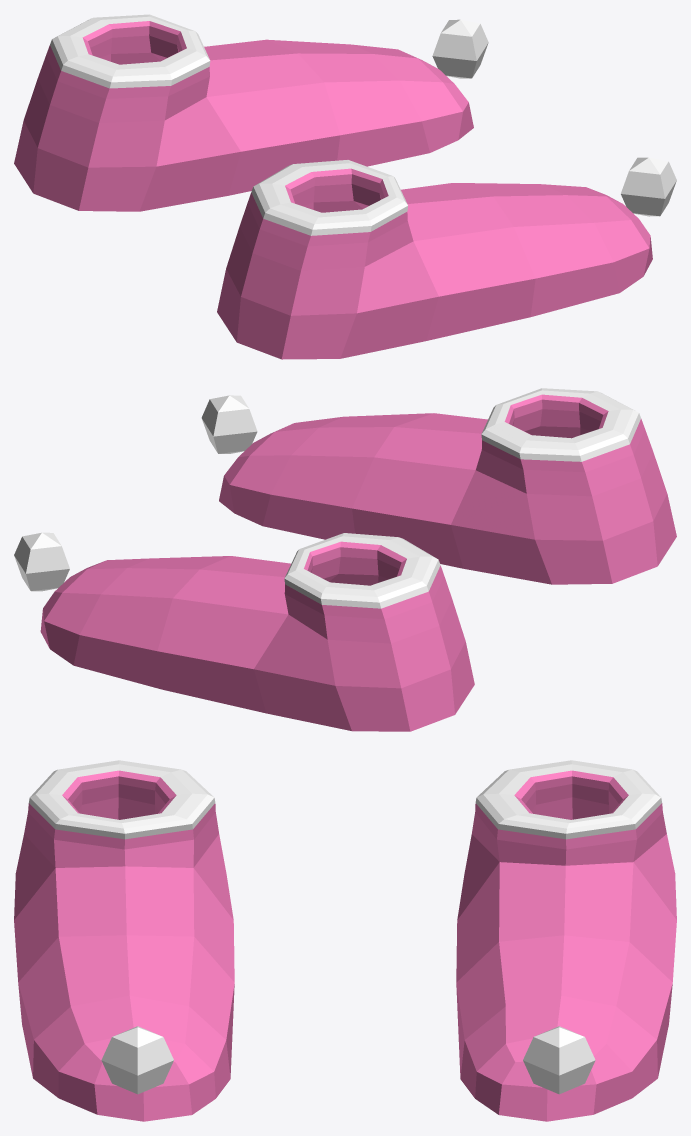
Rendered from slippers.glb.
3 renders of one model, top to bottom at view 1: azimuth 30°, elevation 25°; view 2: azimuth 150°, elevation 25°; view 3: azimuth 270°, elevation 25°, orthographic. The views are drawn at different scales.
Parts seen in each view (by area): view 1: Sphere.002; view 2: Sphere.002; view 3: Sphere.002.
Part boxes in pixels (x1=…): Sphere.002: x1=14, y1=14, x2=676, y2=359; Sphere.002: x1=14, y1=388, x2=676, y2=731; Sphere.002: x1=14, y1=760, x2=676, y2=1121.
Size of the model in its own units: 0.281 by 0.0843 by 0.3209.
1 material, 1 textured.
